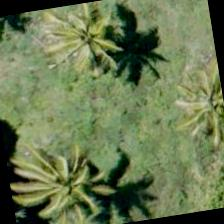Kelapa_Sawit: (23, 134, 127, 223), (37, 0, 139, 90), (169, 54, 223, 151)
